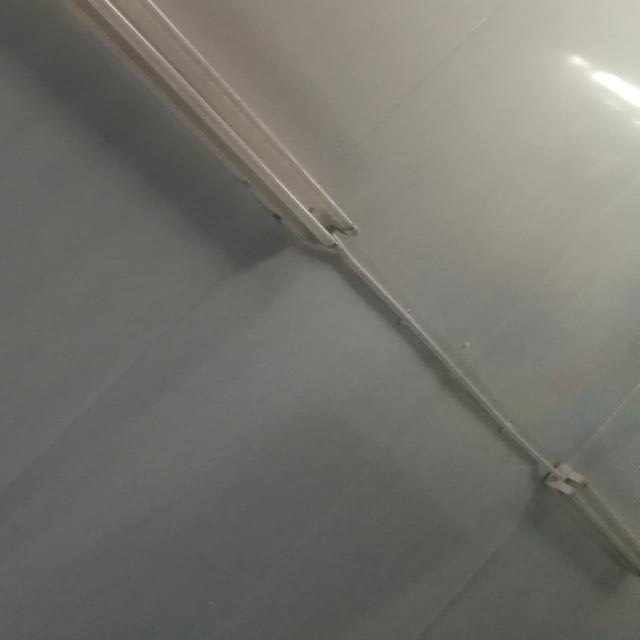fluorescent tube: (0, 0, 388, 268)
